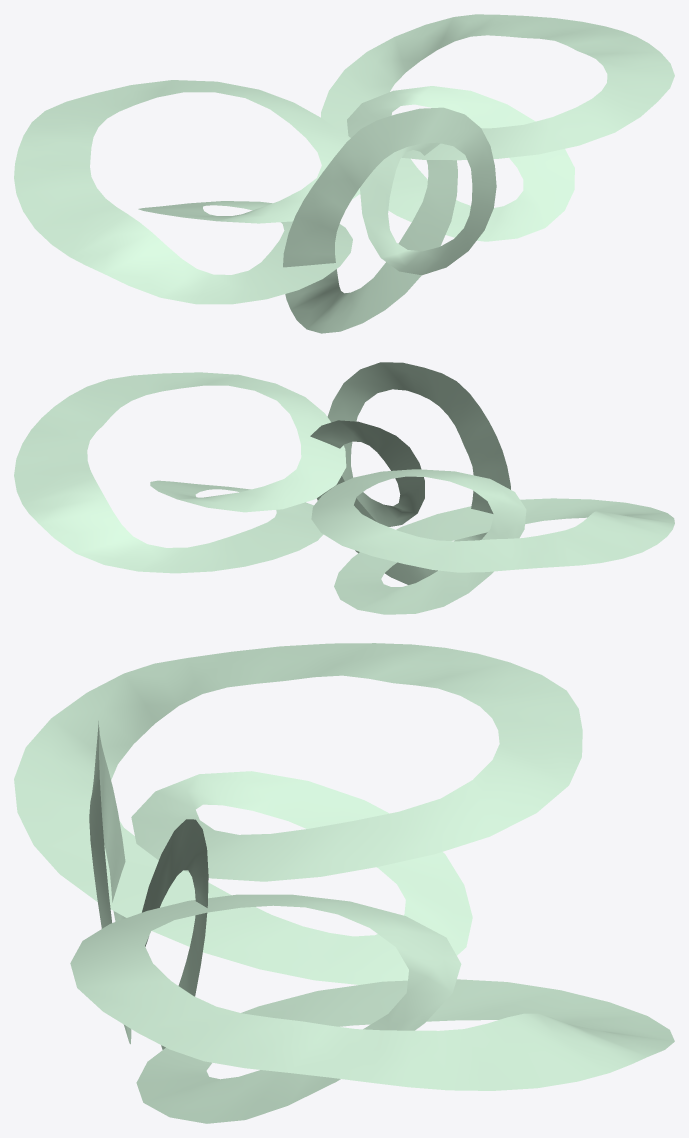
3 views of the same model, one above another, from view 1: azimuth 30°, elevation 25°; view 2: azimuth 150°, elevation 25°; view 3: azimuth 270°, elevation 25° (orthographic). The views are drawn at different scales.
Visible parts, largest first — view 1: Object42; view 2: Object42; view 3: Object42.
Part boxes in pixels (left/top/right/bottom): Object42: left=14, top=14, right=674, bottom=333; Object42: left=14, top=362, right=674, bottom=614; Object42: left=14, top=643, right=674, bottom=1123.
Size of the model in its own units: 440 by 149 by 267.
